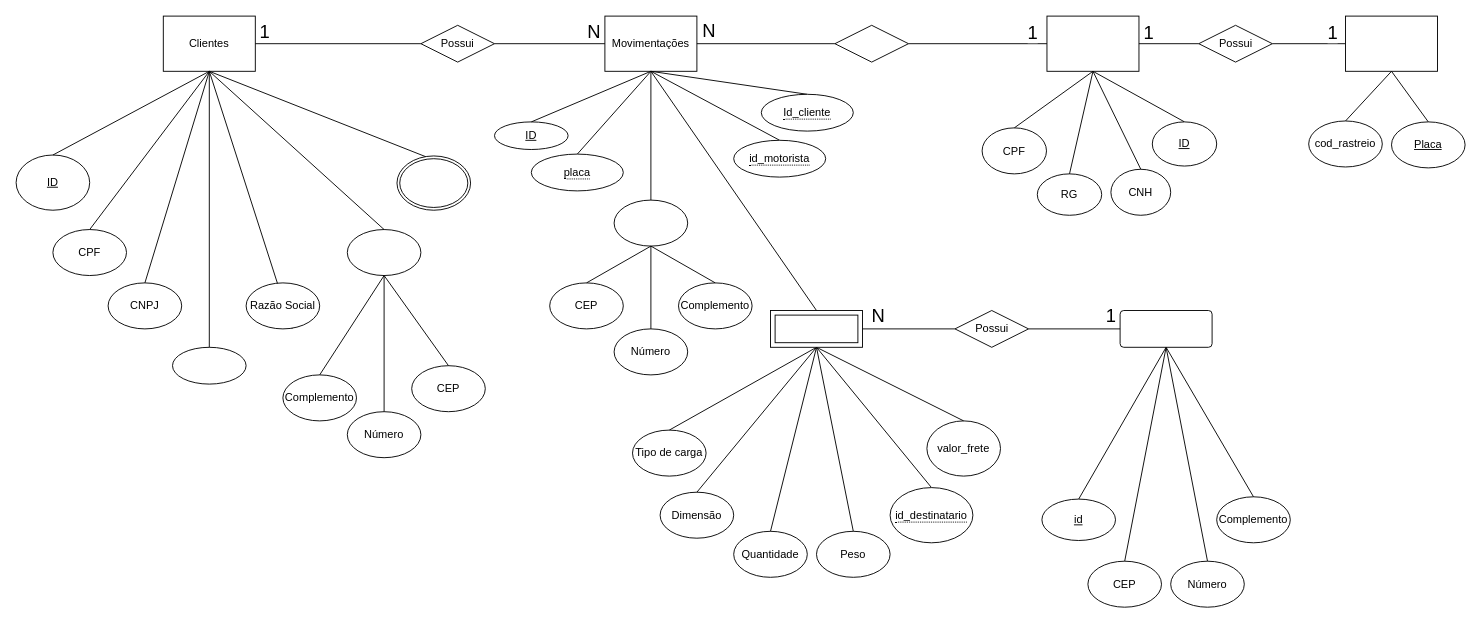
Image size: 1481x624. Some labels were removed from this diagram. The shapes that lost their labels are listed below. From the top down, each one's centre as x and y in pixels, then its label:
(871,43): Contém
(1092,43): Motoristas
(1391,43): Veiculos
(433,182): Contatos
(650,222): Origem
(383,252): Endereço
(816,328): Fretes
(1165,328): Destinatarios
(209,365): Nome
